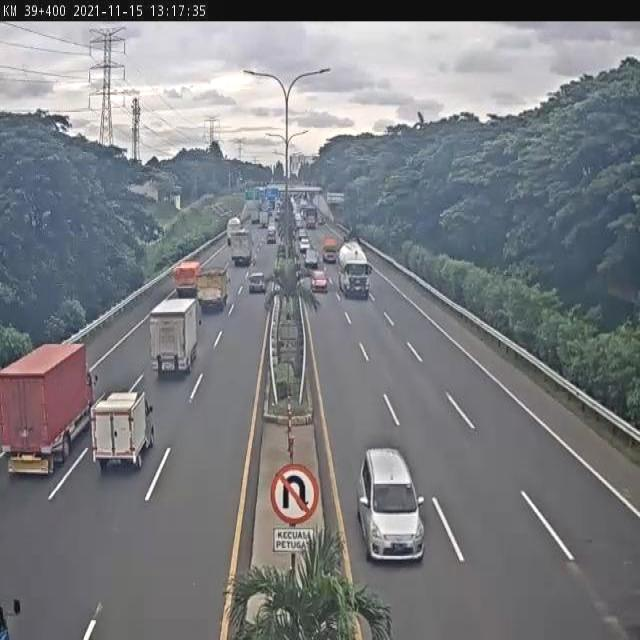Car: (357, 447, 426, 566), (310, 270, 328, 294), (248, 272, 266, 294)
Truck: (0, 343, 99, 476), (91, 390, 154, 466), (150, 298, 200, 380), (339, 242, 372, 299), (194, 270, 230, 311), (174, 262, 202, 298), (230, 228, 252, 268)
